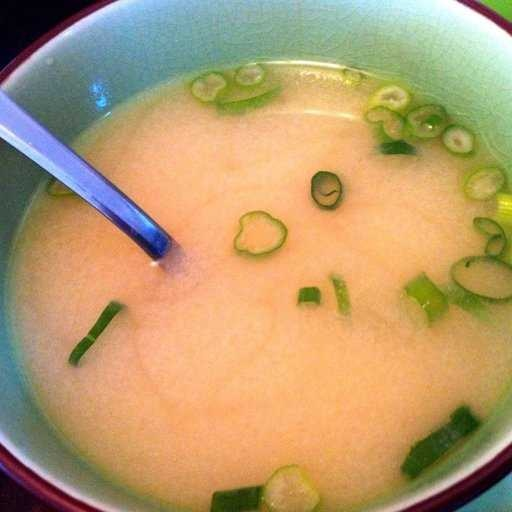soup: (13, 69, 506, 484)
